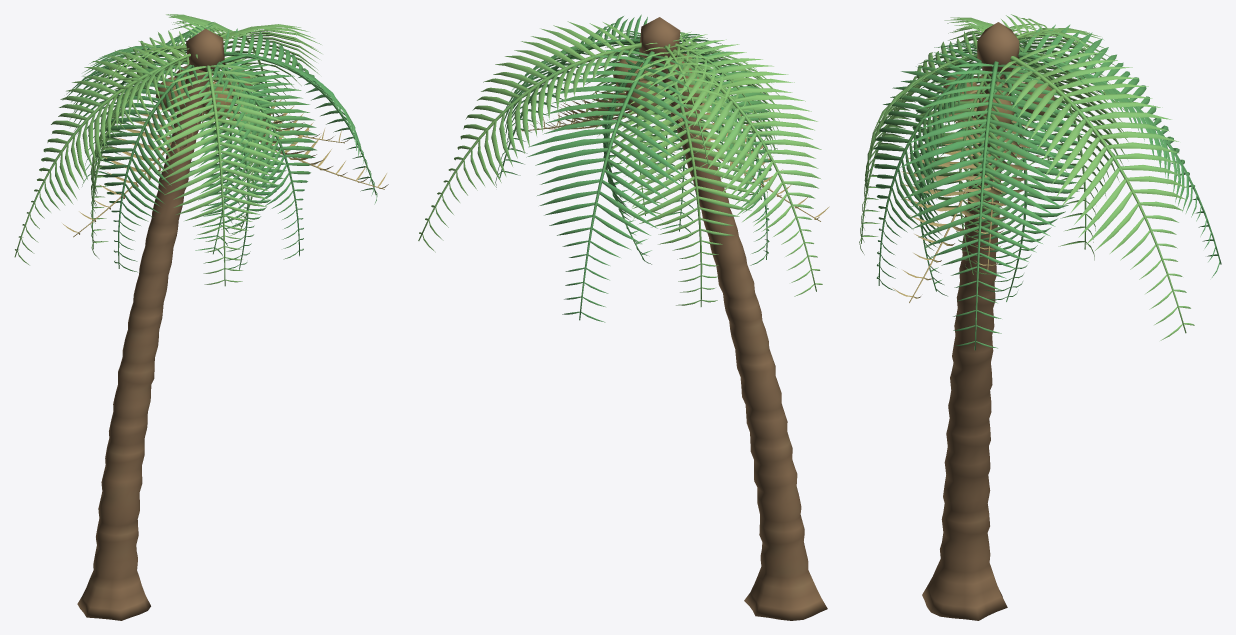
File: palm_a.845a5b8d.glb
3 views of the same model, side by side, from view 1: azimuth 30°, elevation 25°; view 2: azimuth 150°, elevation 25°; view 3: azimuth 270°, elevation 25° (orthographic). The views are drawn at different scales.
Parts seen in each view (by area): view 1: palm_a; view 2: palm_a; view 3: palm_a.
Boxes of the visible parts, x1,y1,x2,y2 form: palm_a: (14, 14, 388, 620); palm_a: (418, 14, 829, 620); palm_a: (859, 14, 1221, 620).
Bounding box in the file's own units: 5.77 × 9 × 4.62.
